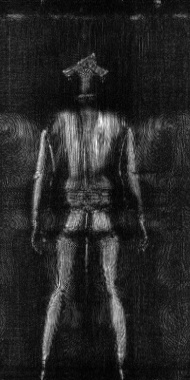gun: (59, 48, 112, 84)
